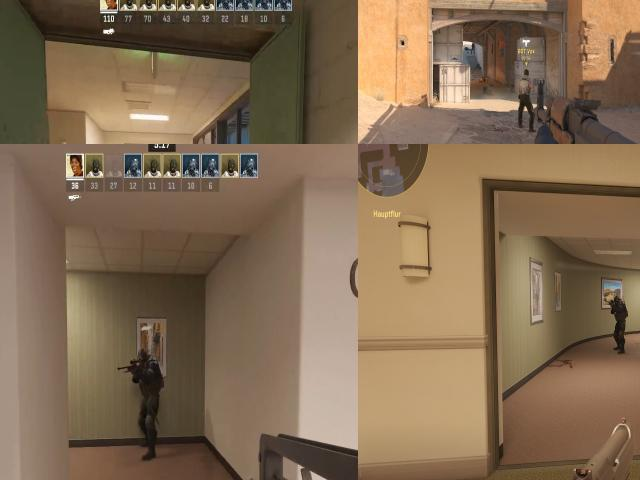CT: (134, 344, 162, 406), (612, 294, 626, 350), (471, 42, 476, 55)
CT-Head: (136, 348, 150, 370), (612, 296, 621, 304), (472, 42, 474, 44)
Dead: (483, 85, 491, 94), (475, 62, 483, 70), (479, 76, 487, 83), (464, 47, 472, 51)
T: (518, 68, 532, 130)
T-Head: (524, 69, 529, 78)
